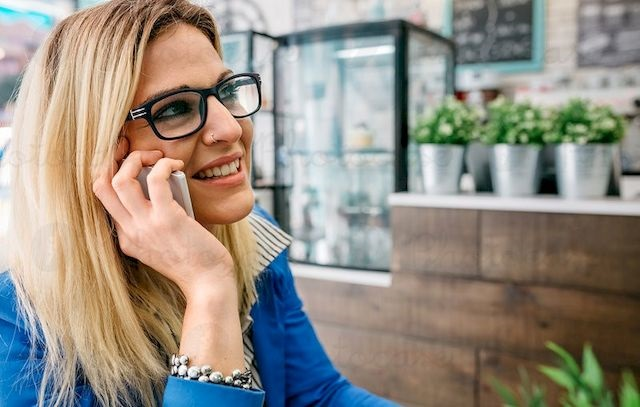phone: (98, 151, 200, 227)
talk: (93, 63, 260, 306)
